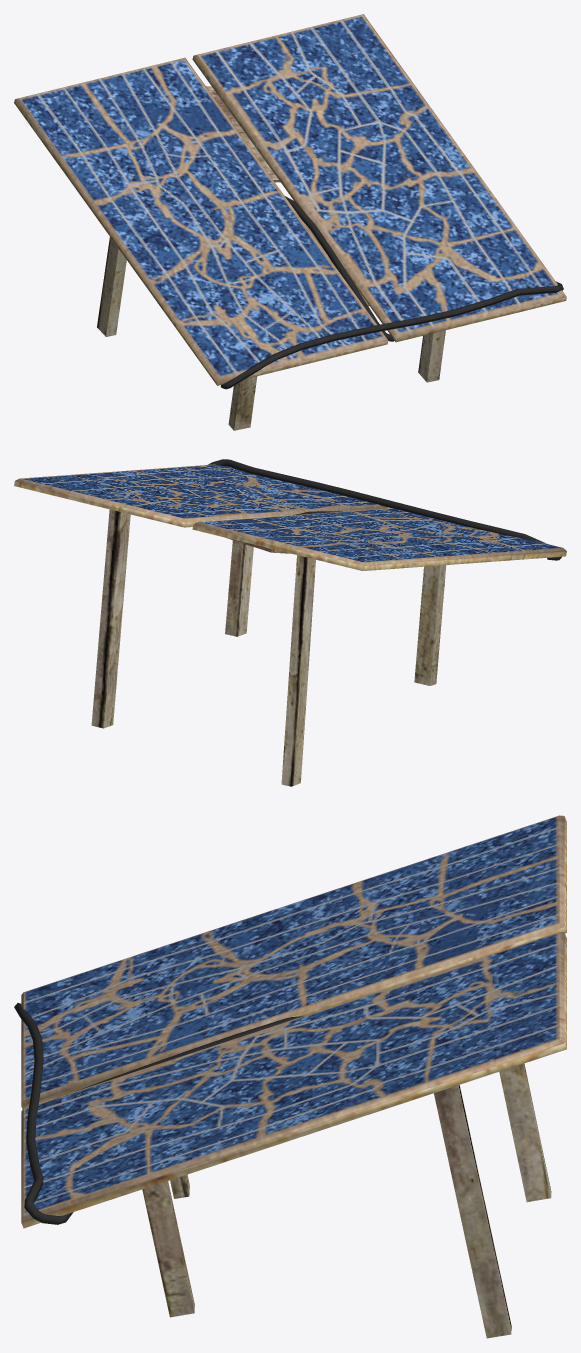
The model's file is SolarCell_Floor_v2.fbx.
The picture shows the model from 3 angles, top to bottom: view 1: azimuth 30°, elevation 25°; view 2: azimuth 150°, elevation 25°; view 3: azimuth 270°, elevation 25°; orthographic projection. The views are drawn at different scales.
Parts seen in each view (by area): view 1: SolarPanel; view 2: SolarPanel; view 3: SolarPanel.
Part boxes in pixels (x1,y1,x2,y2): SolarPanel: (14,14,566,430); SolarPanel: (14,459,566,786); SolarPanel: (14,815,566,1338).
Bounding box in the file's own units: 87.07 × 58.99 × 88.38.
Materials: 1 (1 with a texture image).
